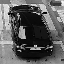mobil: (7, 4, 55, 59)
